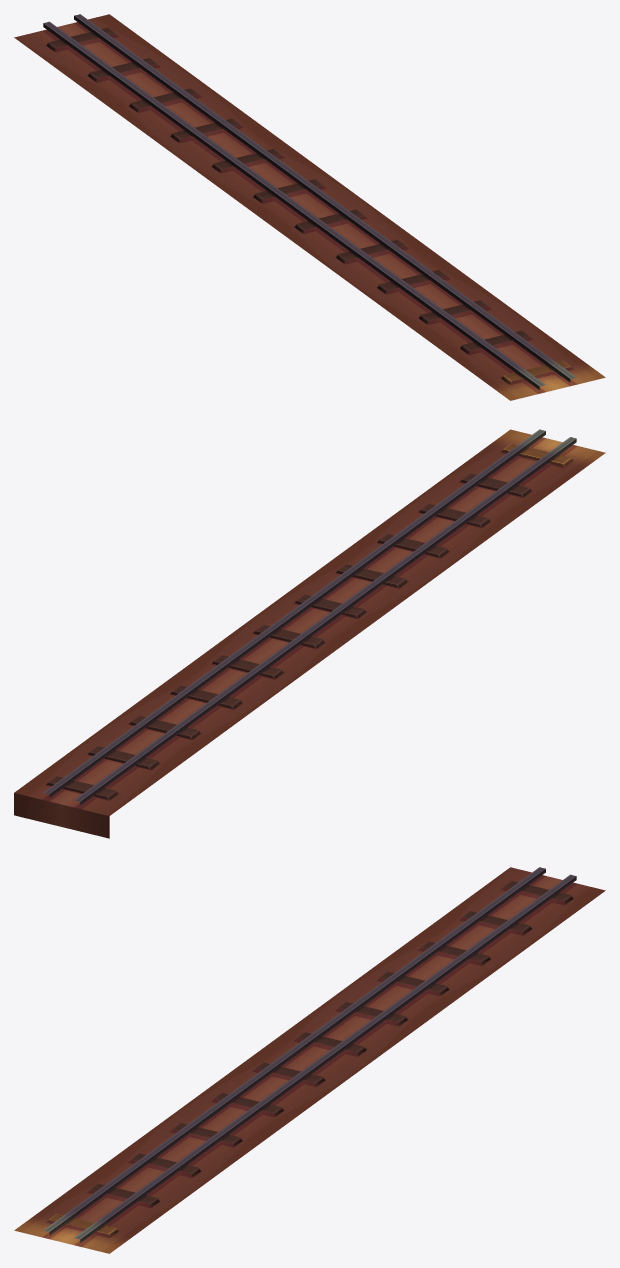
File: 1.100_SanFrancisco_track_shadow_end.glb
3 views of the same model, one above another, from view 1: azimuth 30°, elevation 25°; view 2: azimuth 150°, elevation 25°; view 3: azimuth 330°, elevation 25° (orthographic).
Visible parts, largest first — view 1: 1.100_SanFrancisco_track_shadow_end; view 2: 1.100_SanFrancisco_track_shadow_end; view 3: 1.100_SanFrancisco_track_shadow_end.
Part boxes in pixels (x1=…): 1.100_SanFrancisco_track_shadow_end: x1=14, y1=14, x2=605, y2=400; 1.100_SanFrancisco_track_shadow_end: x1=14, y1=429, x2=605, y2=838; 1.100_SanFrancisco_track_shadow_end: x1=14, y1=867, x2=605, y2=1253.
Bounding box in the file's own units: 20 × 5.96 × 180.
2 materials, 2 textured.
